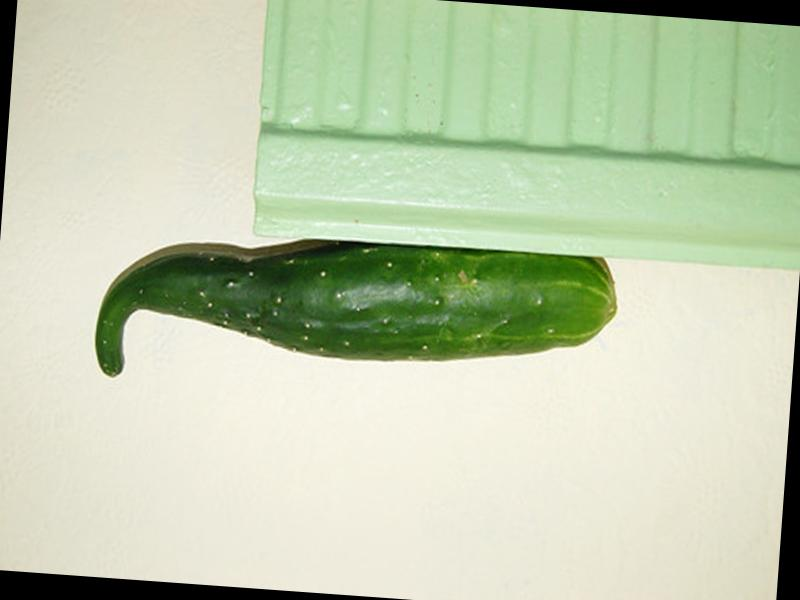Cucumber: (91, 221, 619, 411)
